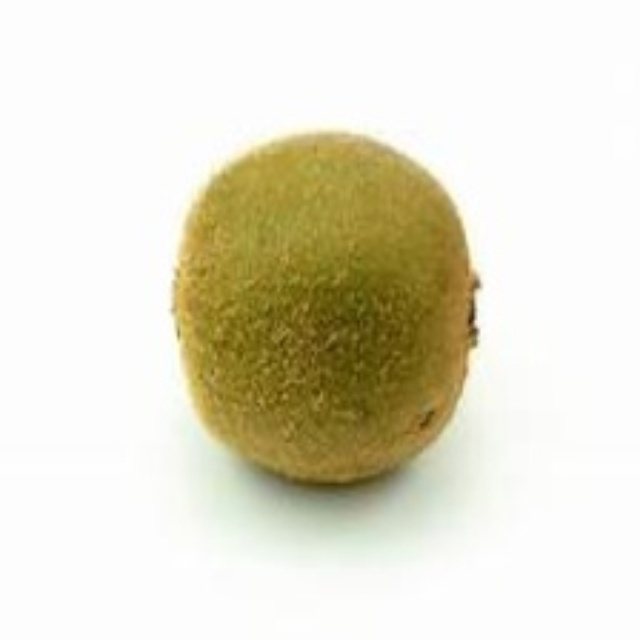kiwi: (170, 141, 475, 489)
